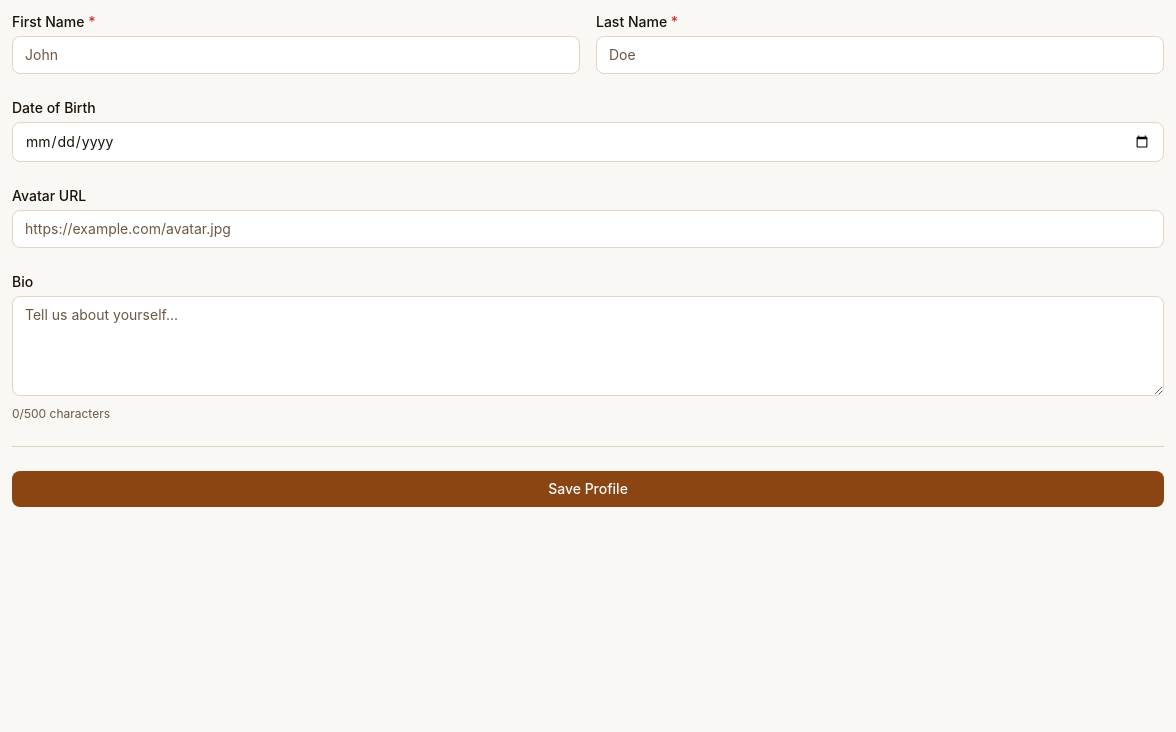
Test: ProfileForm › validates required first_name field
Click the button "Save Profile": click(588, 489) [12,471,1164,507]
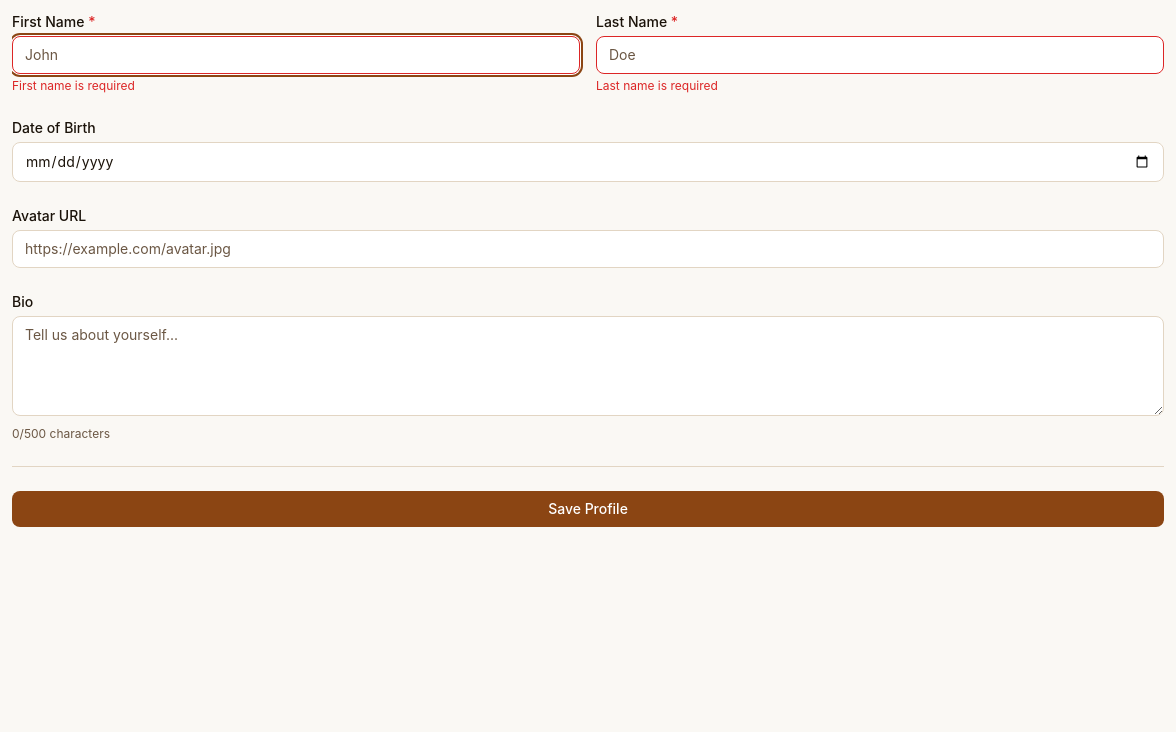
Expected: the text "First name is required" is shown, [12,78,135,93]
